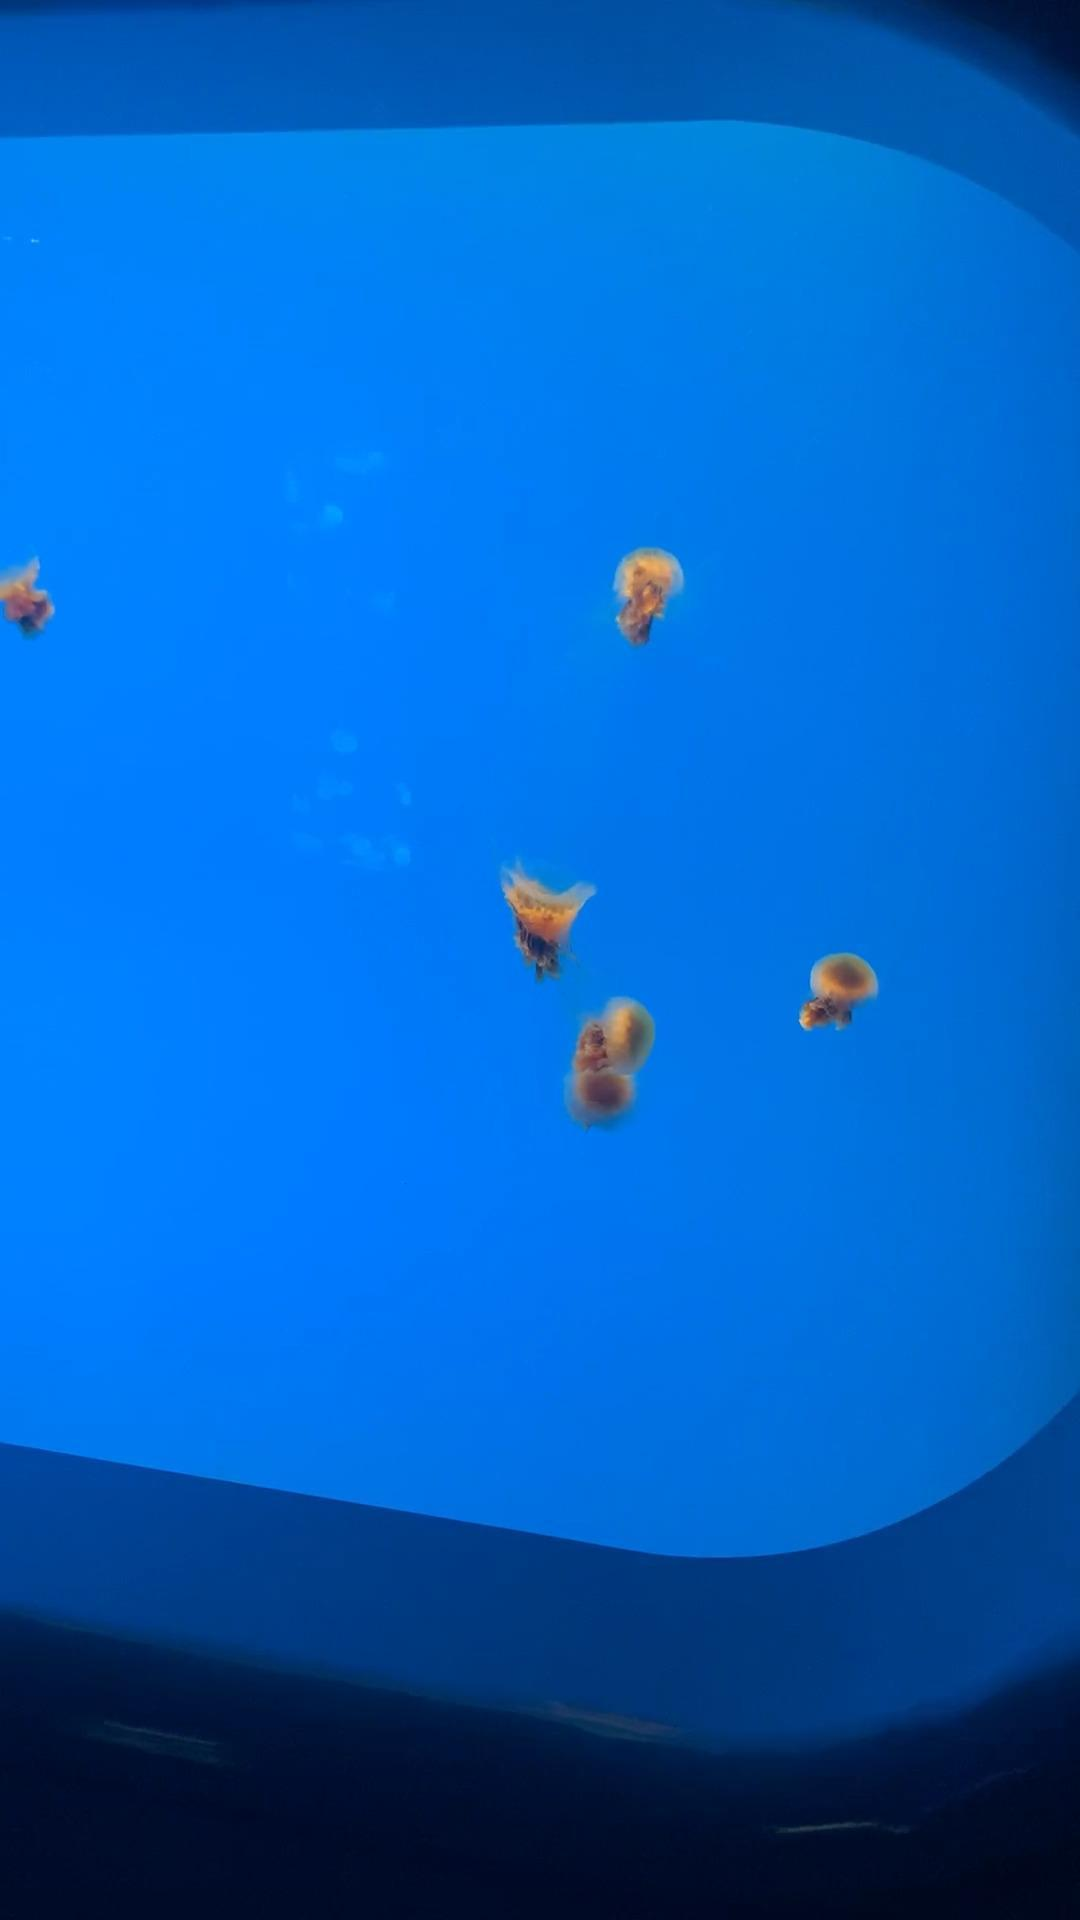jellyfish: (493, 852, 597, 985), (564, 989, 657, 1133), (604, 546, 686, 654), (798, 945, 884, 1036), (0, 549, 66, 645)
